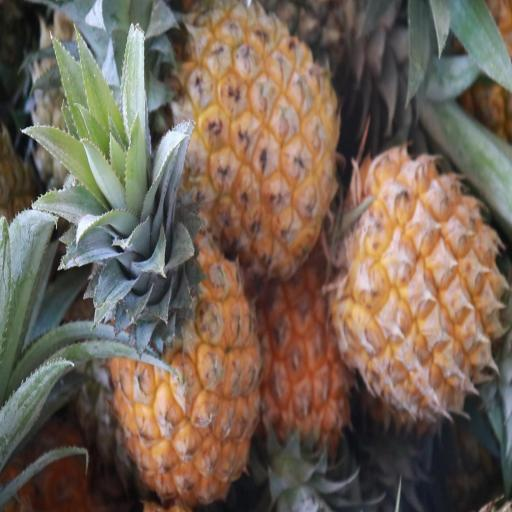Pineapple - v8 v1: (102, 144, 260, 506), (338, 144, 506, 416), (175, 5, 344, 273), (256, 257, 362, 489)
